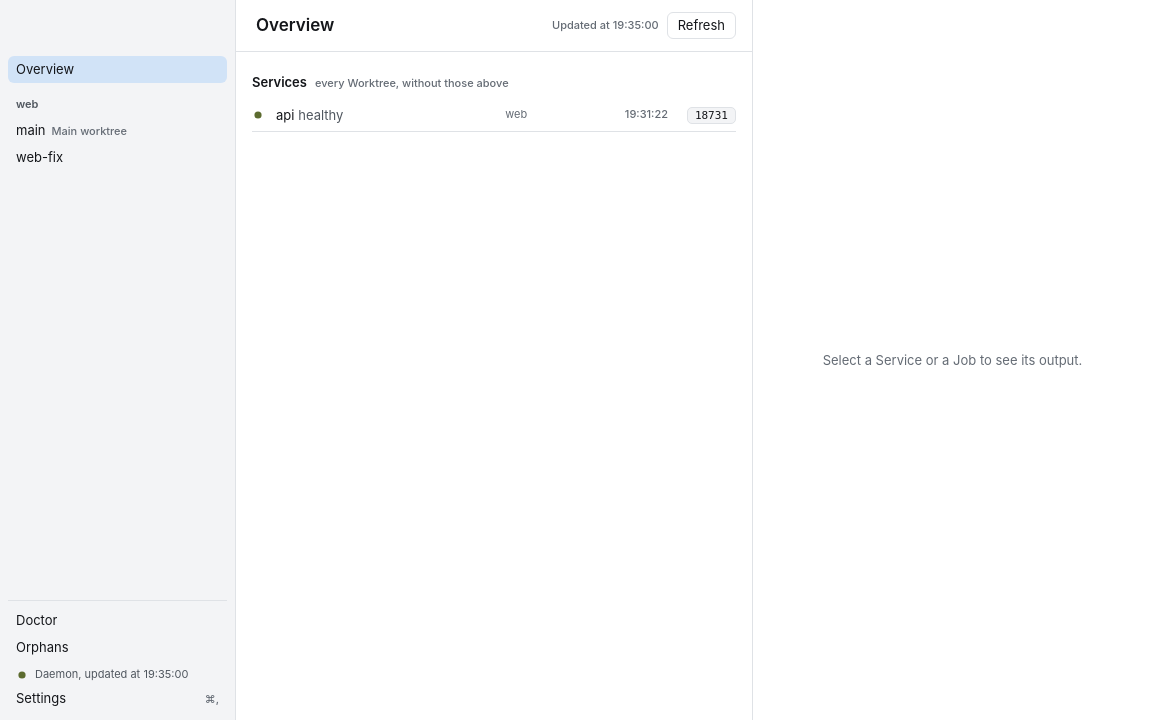
Test case: the Orphans screen › says so when nothing is an Orphan, and offers no deletion
Click the button "Orphans" at (118, 648), box x1=8 y1=634 x2=227 y2=661
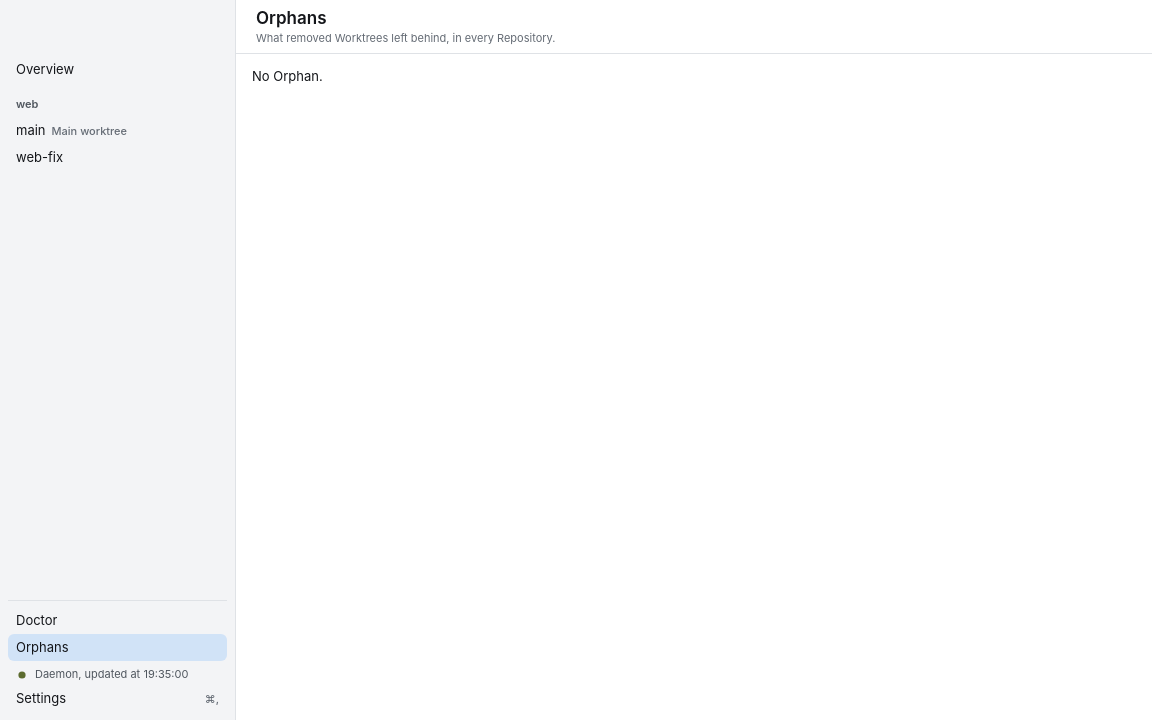
Now the heading "Orphans" is shown, box x1=256 y1=6 x2=326 y2=31
Now the text "No Orphan." is shown, box x1=252 y1=68 x2=323 y2=84
